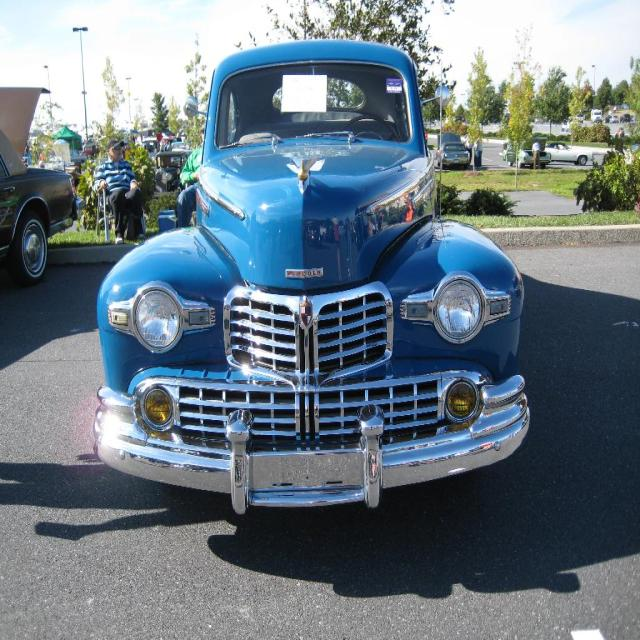car: (85, 42, 514, 533), (433, 131, 471, 169)
